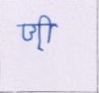i_matra: (40, 14, 56, 43)
